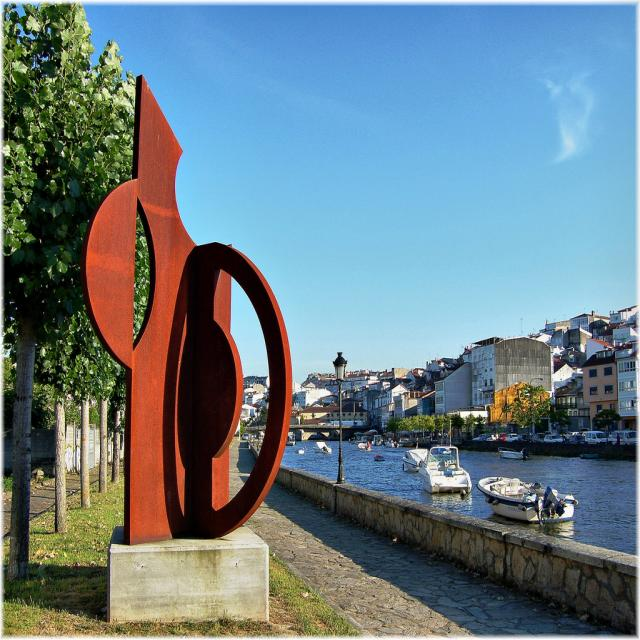Boat: (486, 473, 578, 523), (418, 445, 472, 497)
